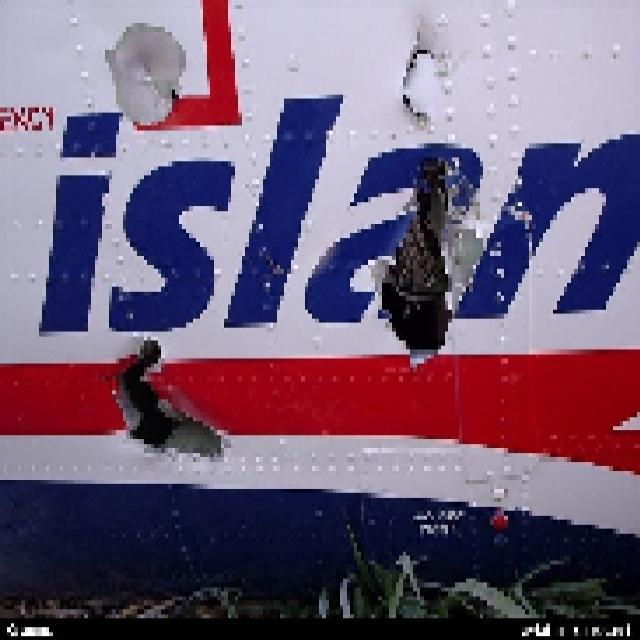crack: (377, 155, 461, 384), (107, 338, 236, 468), (398, 28, 445, 134), (145, 64, 184, 119)
